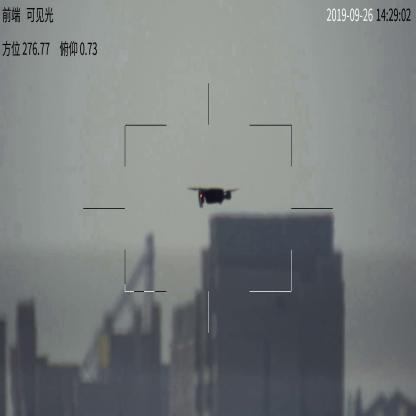uav: (188, 183, 236, 206)
